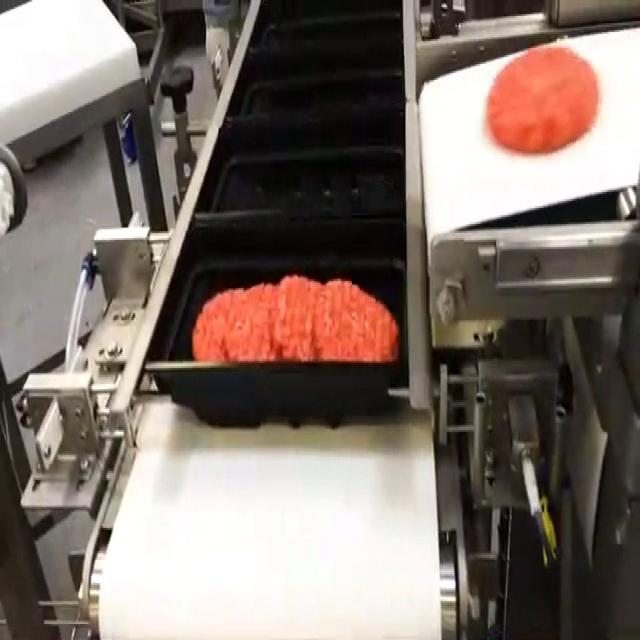4-hamburguer: (193, 274, 398, 359)
hamburguer: (486, 46, 598, 153)
